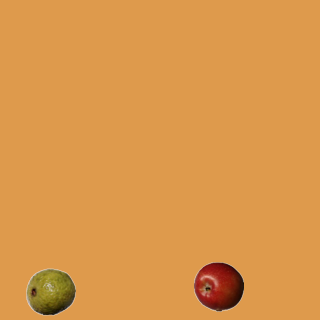Apple Braeburn: (193, 261, 243, 311)
Guava: (25, 266, 75, 316)
